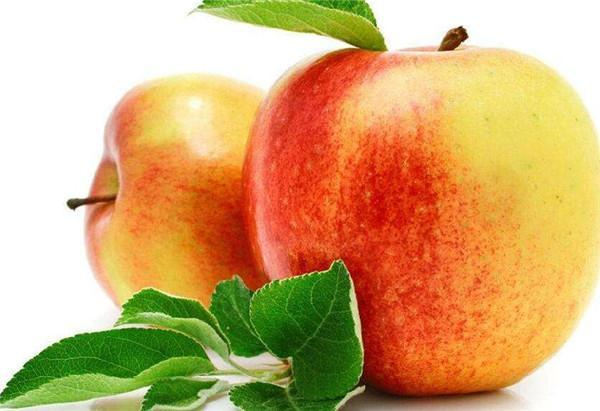apple: (244, 47, 600, 396), (82, 64, 292, 312)
